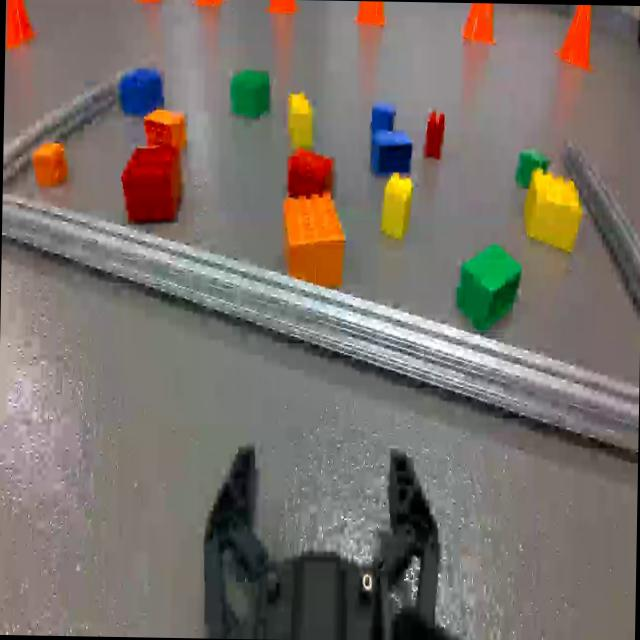block: (523, 169, 579, 250), (381, 169, 414, 239), (286, 92, 315, 149)
blue: (118, 67, 162, 117), (367, 130, 412, 178), (370, 104, 394, 126)
cone: (553, 5, 596, 72), (4, 0, 41, 50), (460, 2, 496, 46), (350, 1, 391, 28), (262, 0, 307, 17), (191, 0, 225, 7)
green: (454, 239, 523, 335), (228, 67, 270, 118), (514, 150, 548, 190)
metal barrier: (1, 65, 640, 456)
orange: (285, 188, 342, 284), (28, 138, 68, 188), (144, 108, 186, 145)
red goal: (121, 145, 182, 226), (286, 144, 332, 192), (421, 107, 446, 162)
